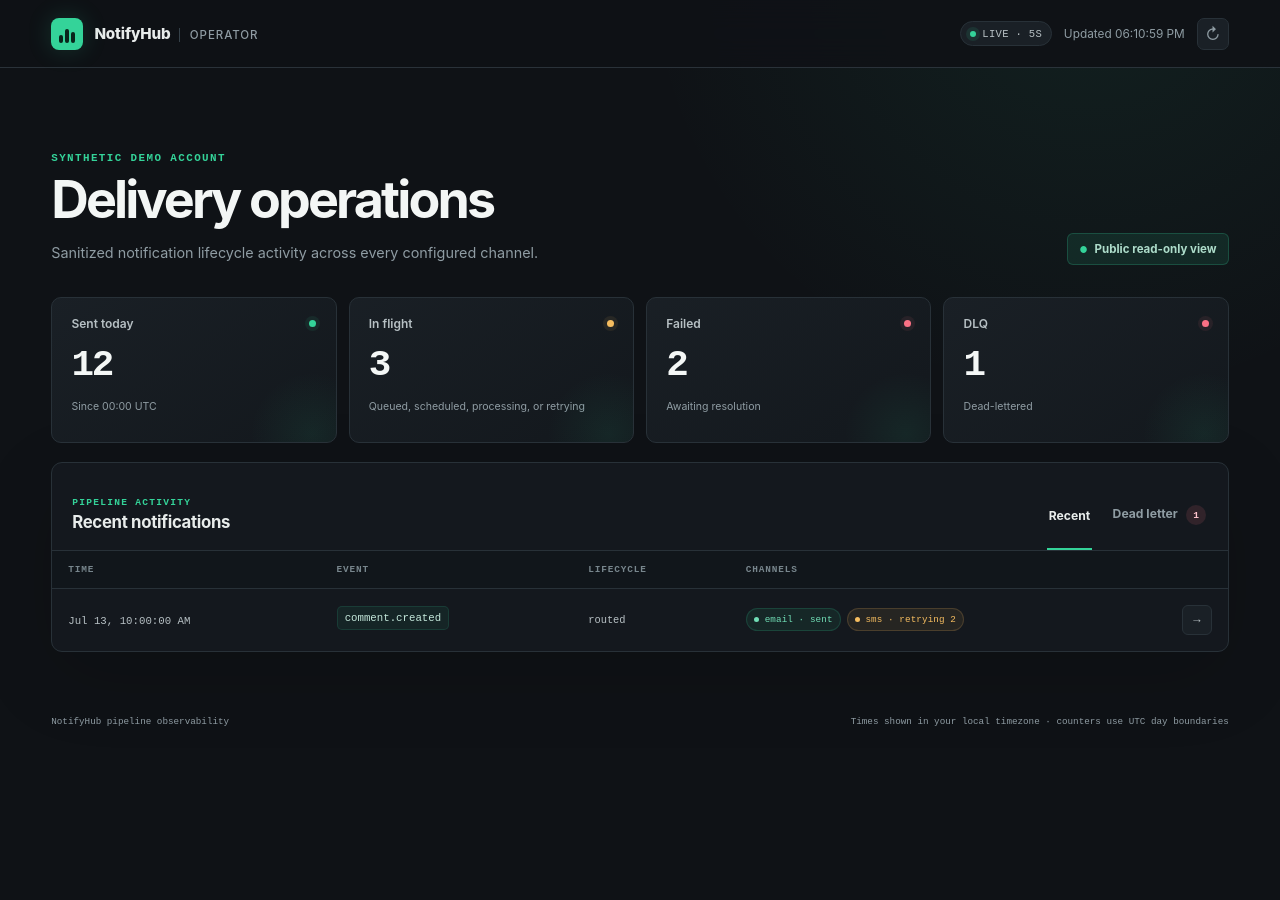
Test: operator dashboard › handles the ineligible retry outcome and keeps the key in component memory
Click the tab "Dead letter 1".
click(1159, 516)  # box [1111,482,1208,550]
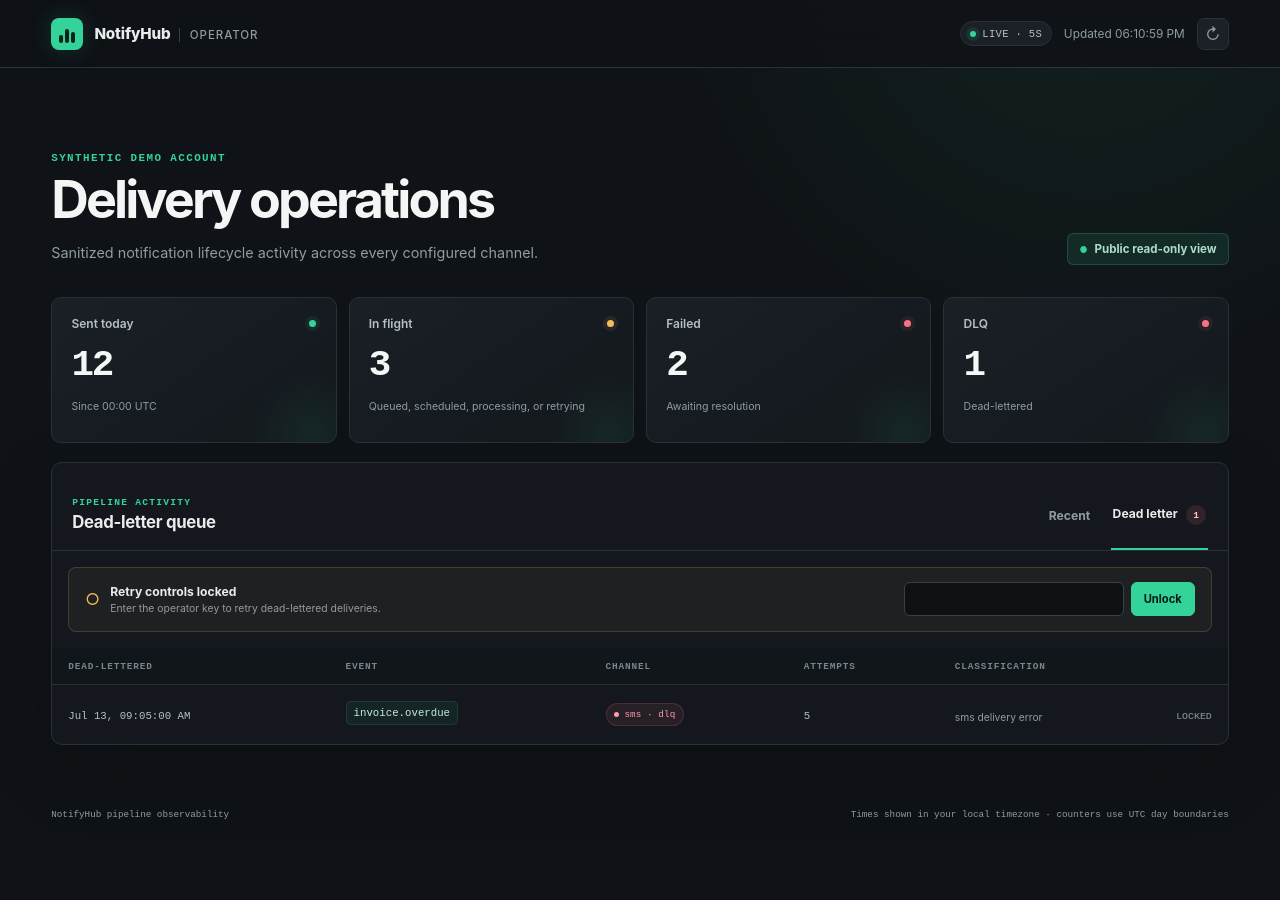
Type "memory-only-key" into the password field named "Operator key".
click(1014, 599); type("memory-only-key")  # box [904,582,1124,616]
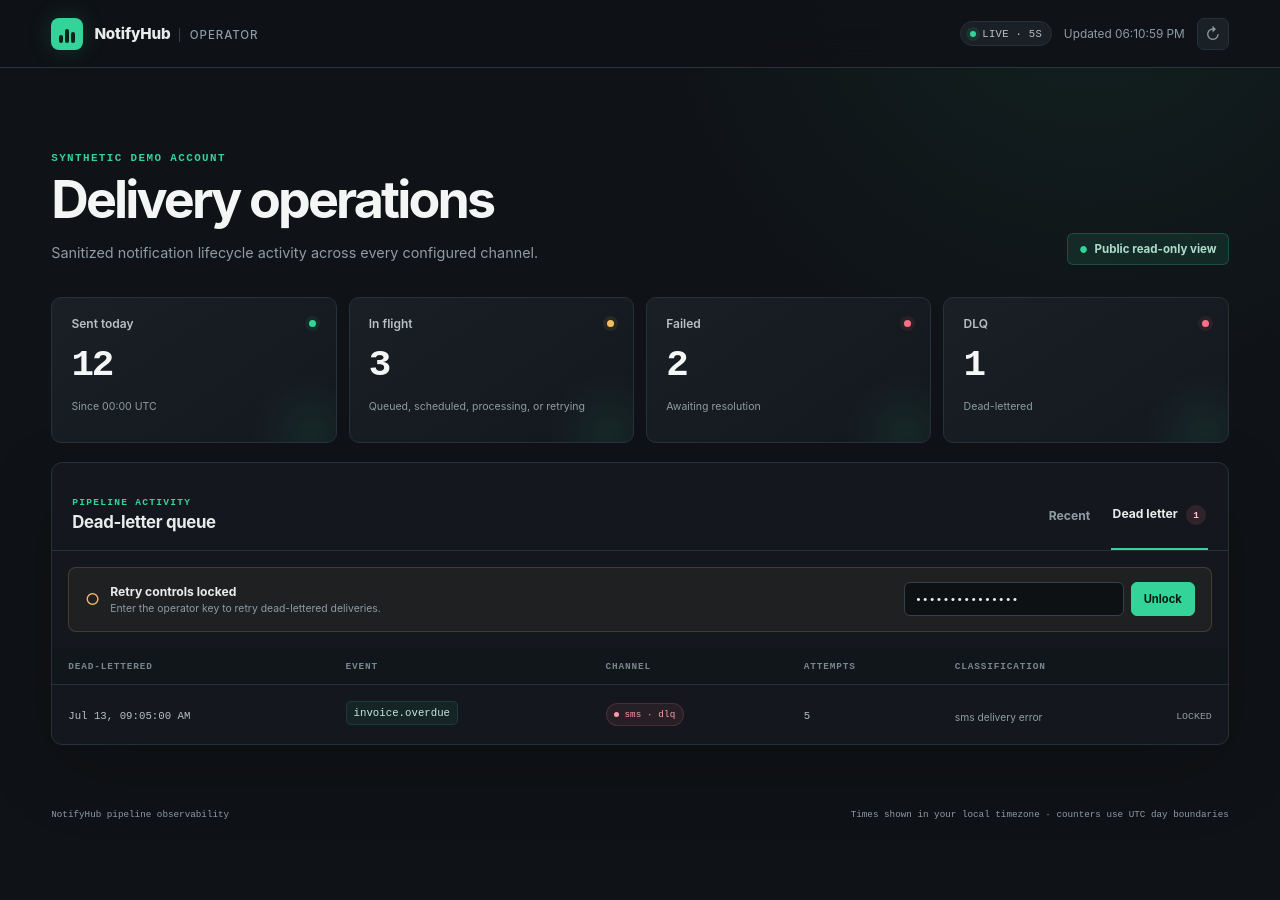
Submit the form named "Operator key", box [904,582,1195,616]
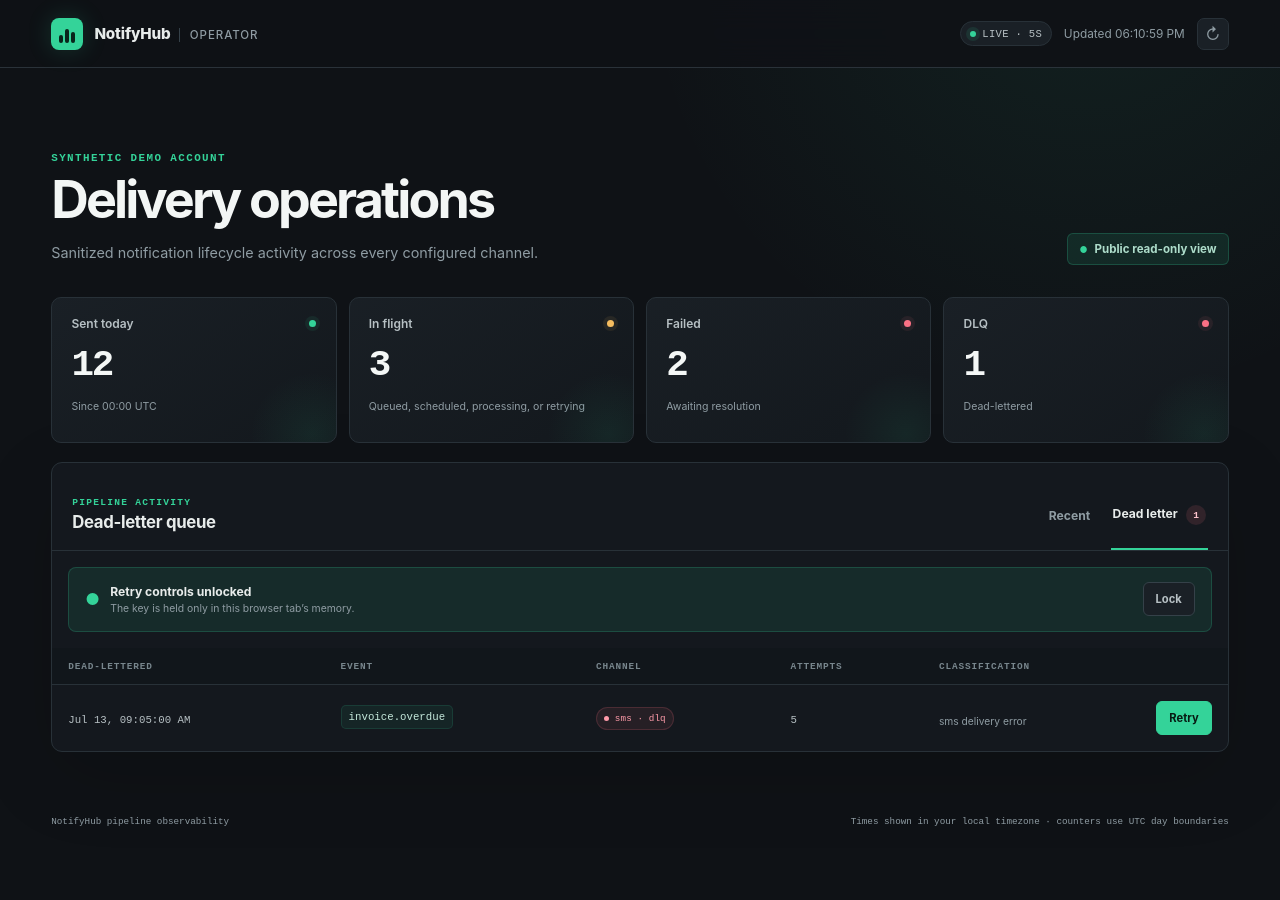
Click the button "Retry".
click(1184, 718)  # box [1156,701,1212,735]
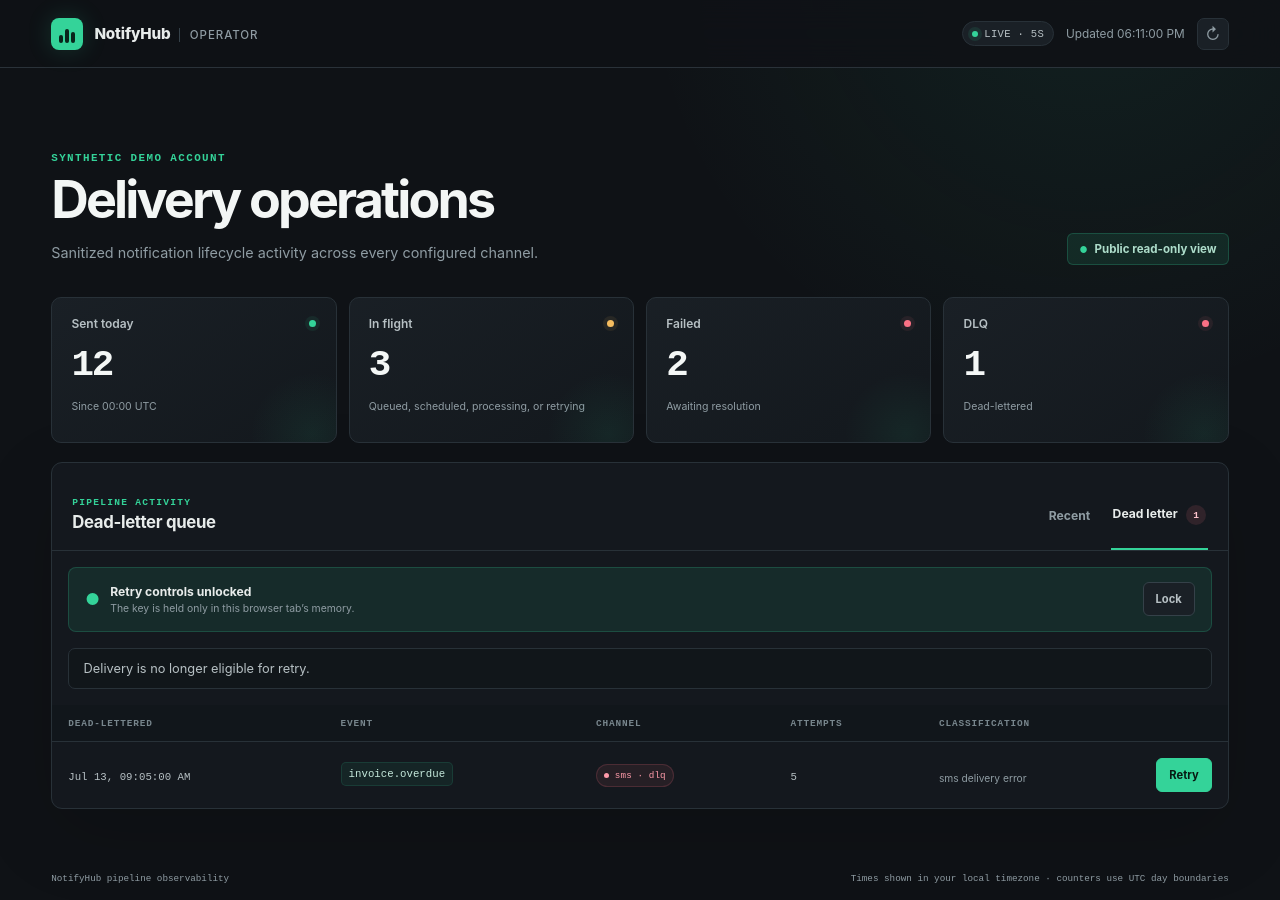
Check: the text "Delivery is no longer eligible for retry." is shown, box [68,648,1212,689]
